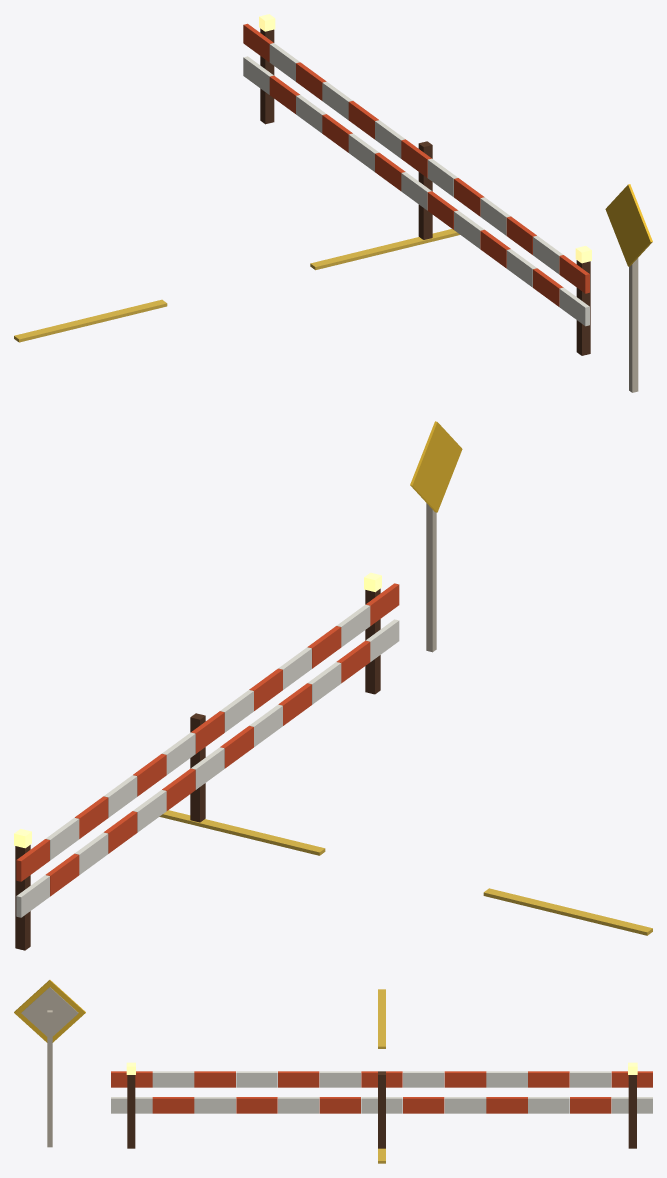
File: structure.glb
3 views of the same model, one above another, from view 1: azimuth 30°, elevation 25°; view 2: azimuth 150°, elevation 25°; view 3: azimuth 270°, elevation 25° (orthographic). The views are drawn at different scales.
Visible parts, largest first — view 1: Box35, Box1, Box34, Box2, Box31, Box30, Box29, Box15, Box28, Box5, Box12, Box14 (+21 smaller); view 2: Box35, Box1, Box34, Box2, Box29, Box30, Box3, Box16, Box31, Box8, Box10, Box13 (+21 smaller); view 3: Box36, Box35, Box34, Box7, Box14, Box20, Box27, Box4, Box5, Box6, Box8, Box10 (+21 smaller).
Part boxes in pixels (x1=…): Box35: x1=605, y1=184, x2=652, y2=266; Box1: x1=14, y1=299, x2=167, y2=342; Box34: x1=629, y1=258, x2=638, y2=392; Box2: x1=310, y1=229, x2=459, y2=270; Box31: x1=576, y1=260, x2=590, y2=355; Box30: x1=418, y1=141, x2=432, y2=239; Box29: x1=260, y1=28, x2=274, y2=124; Box15: x1=559, y1=287, x2=589, y2=326; Box28: x1=559, y1=255, x2=589, y2=293; Box5: x1=296, y1=95, x2=326, y2=133; Box12: x1=480, y1=229, x2=510, y2=268; Box14: x1=533, y1=268, x2=563, y2=306; Box35: x1=410, y1=421, x2=462, y2=512; Box1: x1=483, y1=888, x2=652, y2=935; Box34: x1=426, y1=503, x2=436, y2=652; Box2: x1=159, y1=810, x2=325, y2=855; Box29: x1=15, y1=845, x2=30, y2=950; Box30: x1=190, y1=713, x2=205, y2=822; Box3: x1=16, y1=875, x2=49, y2=917; Box16: x1=16, y1=839, x2=49, y2=881; Box31: x1=365, y1=588, x2=380, y2=694; Box8: x1=162, y1=768, x2=195, y2=810; Box10: x1=220, y1=726, x2=253, y2=768; Box13: x1=307, y1=662, x2=341, y2=704; Box36: x1=21, y1=987, x2=78, y2=1036; Box35: x1=14, y1=980, x2=85, y2=1042; Box34: x1=47, y1=1010, x2=52, y2=1147; Box7: x1=444, y1=1097, x2=486, y2=1113; Box14: x1=152, y1=1097, x2=194, y2=1113; Box20: x1=444, y1=1071, x2=486, y2=1087; Box27: x1=152, y1=1071, x2=194, y2=1087; Box4: x1=570, y1=1097, x2=611, y2=1113; Box5: x1=528, y1=1097, x2=569, y2=1113; Box6: x1=486, y1=1097, x2=527, y2=1113; Box8: x1=403, y1=1097, x2=444, y2=1113; Box10: x1=319, y1=1097, x2=360, y2=1113.
Bounding box in the file's own units: 6 × 2.73 × 9.43.
